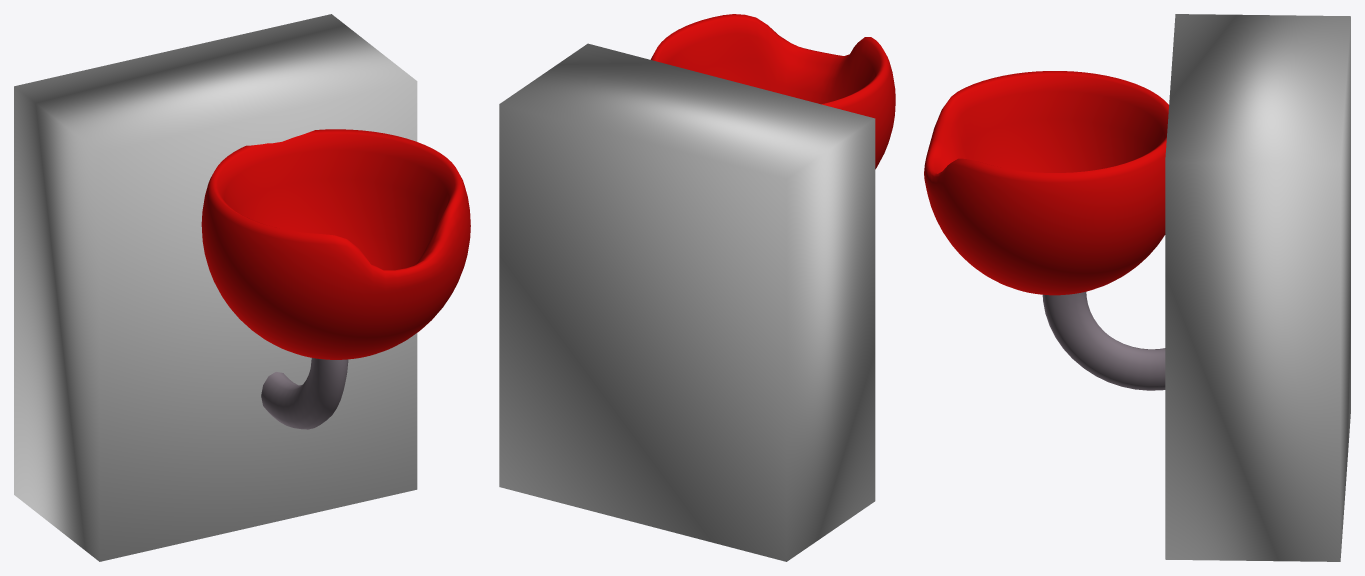
File: shampooBowl.fbx
3 renders of one model, left to right at view 1: azimuth 30°, elevation 25°; view 2: azimuth 150°, elevation 25°; view 3: azimuth 270°, elevation 25°, orthographic. The views are drawn at different scales.
Visible parts, largest first — view 1: Cube, Sphere, Torus.001; view 2: Cube, Sphere; view 3: Cube, Sphere, Torus.001.
Part boxes in pixels (<box>): Cube: <box>14,14,417,561</box>; Sphere: <box>201,129,470,359</box>; Torus.001: <box>261,358,348,429</box>; Cube: <box>499,43,875,561</box>; Sphere: <box>650,14,895,169</box>; Cube: <box>1165,14,1350,561</box>; Sphere: <box>924,71,1168,295</box>; Torus.001: <box>1042,291,1165,390</box>.
Bounding box in the file's own units: 811 × 1000 × 973.
